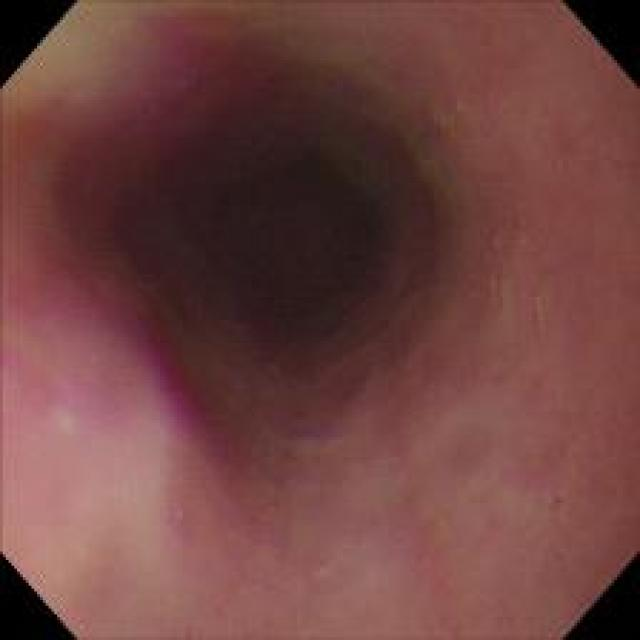color misalignment: (339, 50, 454, 215), (8, 291, 125, 430), (136, 16, 262, 136), (134, 312, 206, 448), (270, 409, 345, 449)
contrast: (132, 51, 438, 400)
